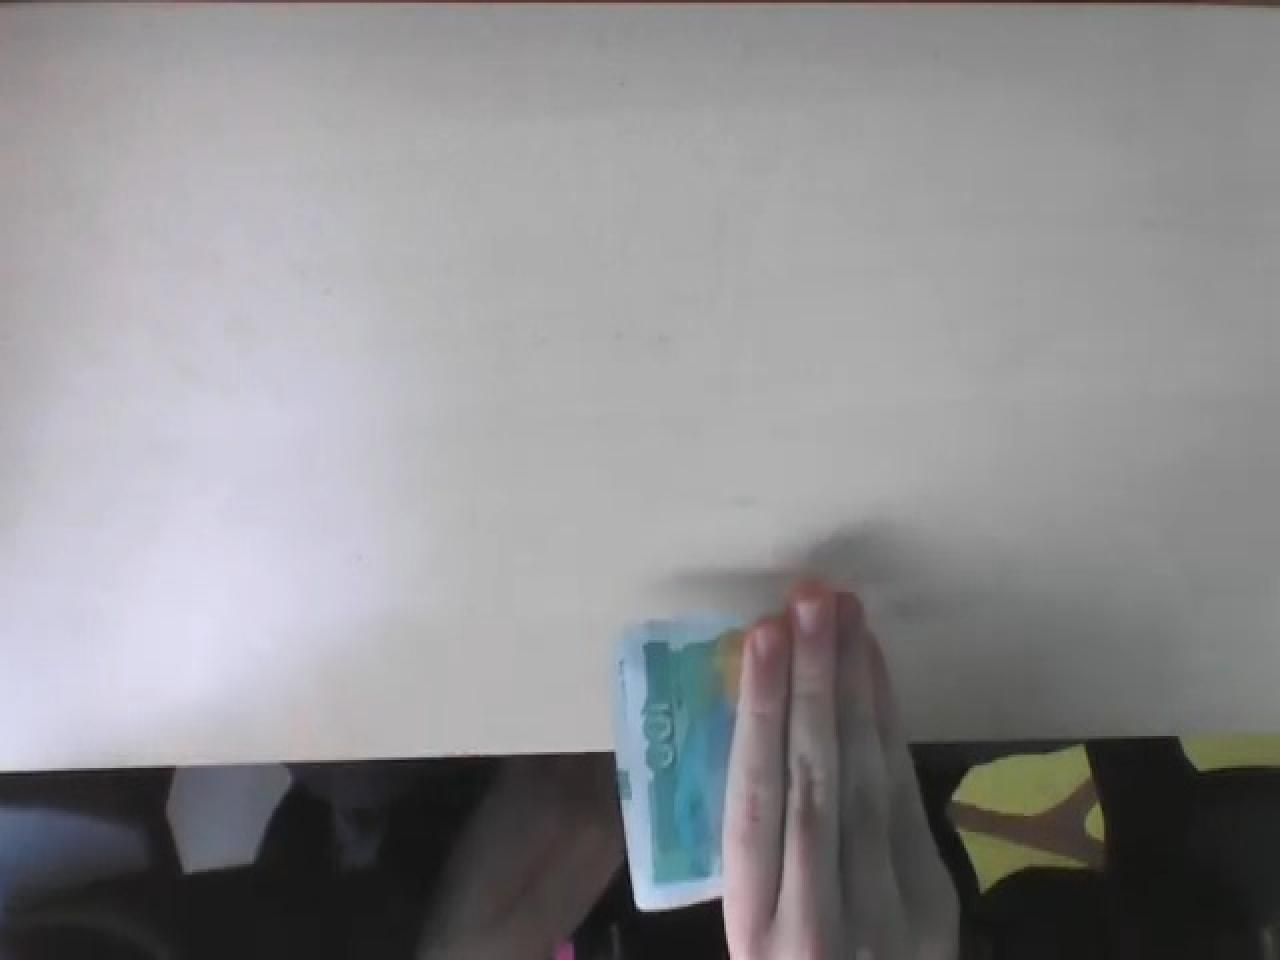100leva: (612, 616, 764, 915)
